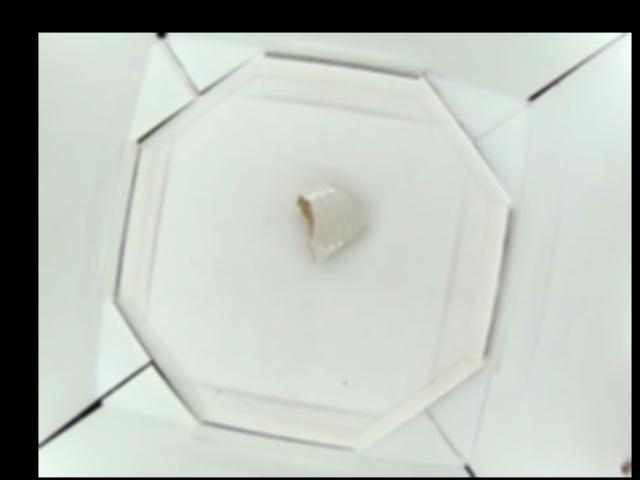China: (298, 178, 368, 258)
